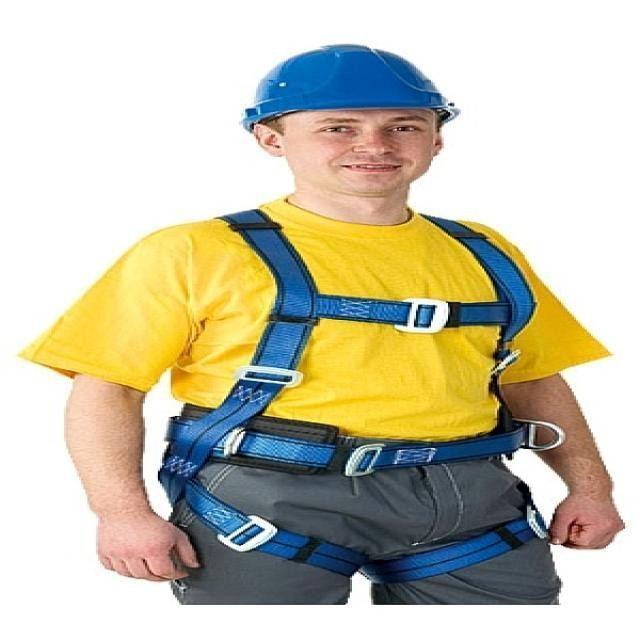Arnes_seguridad: (153, 203, 563, 580)
